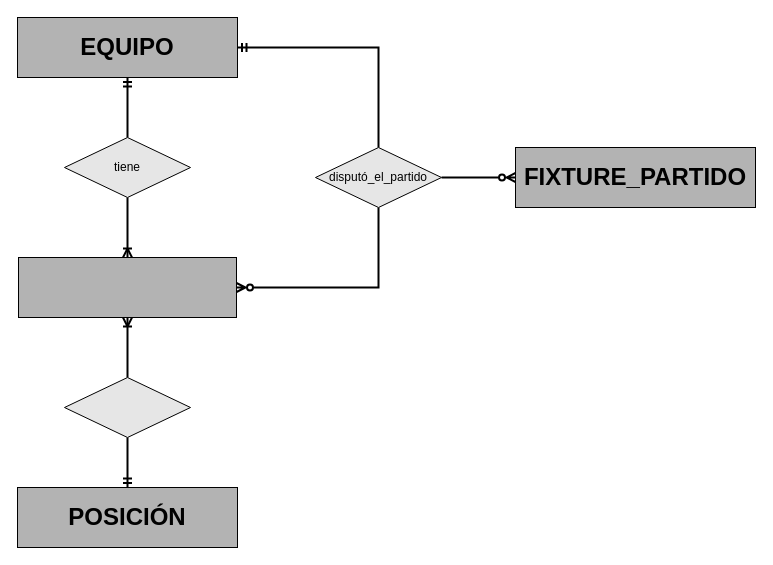
Some shapes in this 773 by 565 pixel diagram are drawn without their labels. Here are the shapes that lost their labels. From the top down, the centre of each, then its label:
the point at 127,287: JUGADOR
the point at 127,407: jugó_de
